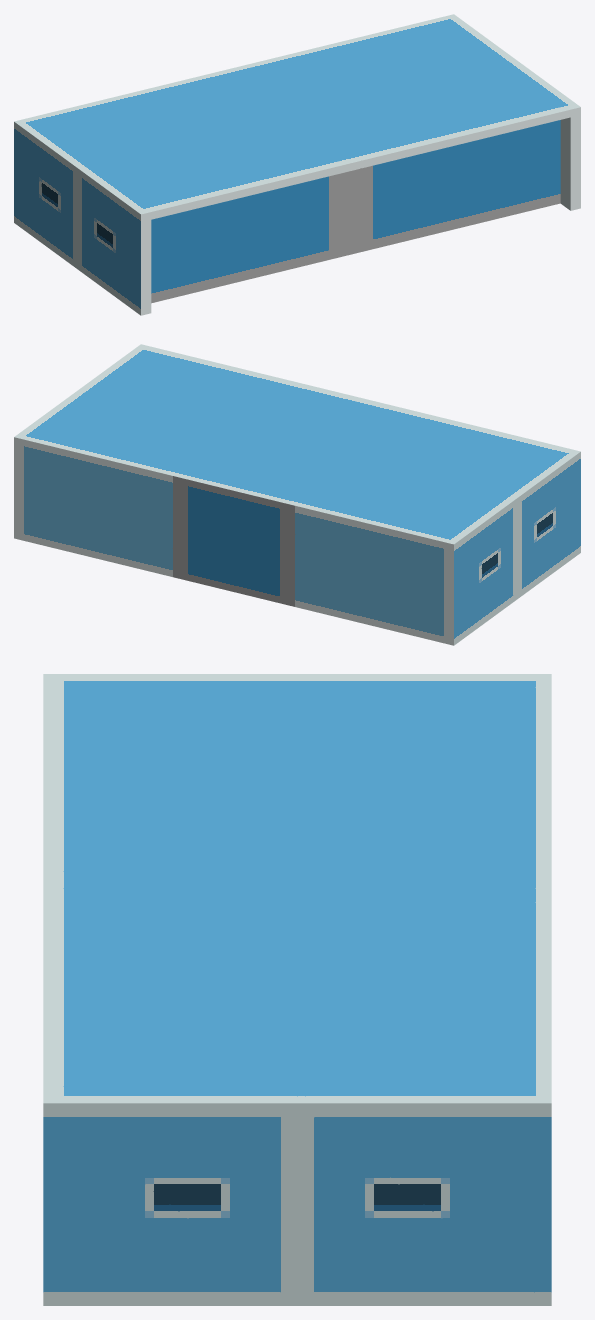
The picture shows the model from 3 angles, top to bottom: view 1: azimuth 30°, elevation 25°; view 2: azimuth 150°, elevation 25°; view 3: azimuth 270°, elevation 25°; orthographic projection. The views are drawn at different scales.
Visible parts, largest first — view 1: 3662kg_case_29; view 2: 3662kg_case_29; view 3: 3662kg_case_29.
Part boxes in pixels (left/top/right/bottom): 3662kg_case_29: left=14, top=14, right=580, bottom=315; 3662kg_case_29: left=14, top=344, right=580, bottom=645; 3662kg_case_29: left=43, top=674, right=551, bottom=1305.
Size of the model in its own units: 2 by 0.4399 by 1.
1 material, 1 textured.
